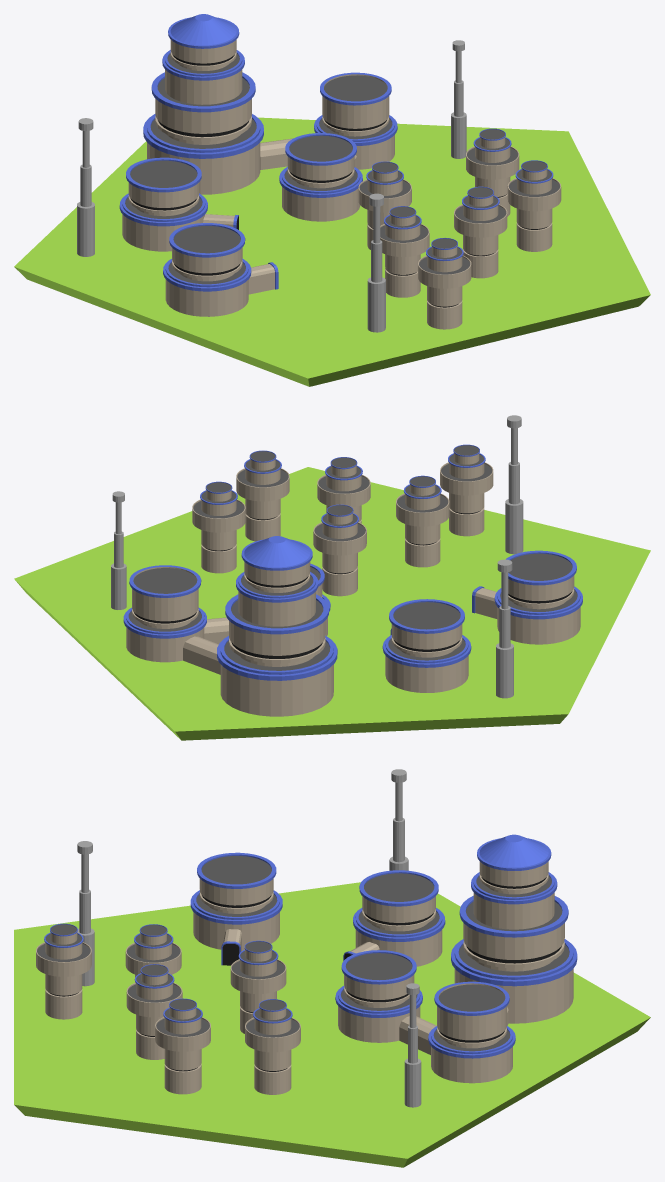
Rendered from VilleX_2.fbx.
3 renders of one model, top to bottom at view 1: azimuth 30°, elevation 25°; view 2: azimuth 150°, elevation 25°; view 3: azimuth 270°, elevation 25°, orthographic. The views are drawn at different scales.
Visible parts, largest first — view 1: Cite_x; view 2: Cite_x; view 3: Cite_x.
Boxes of the visible parts, x1,y1,x2,y2 form: Cite_x: (14,14,650,386); Cite_x: (14,415,650,740); Cite_x: (14,769,650,1167).
Size of the model in its own units: 111 by 31.84 by 105.
